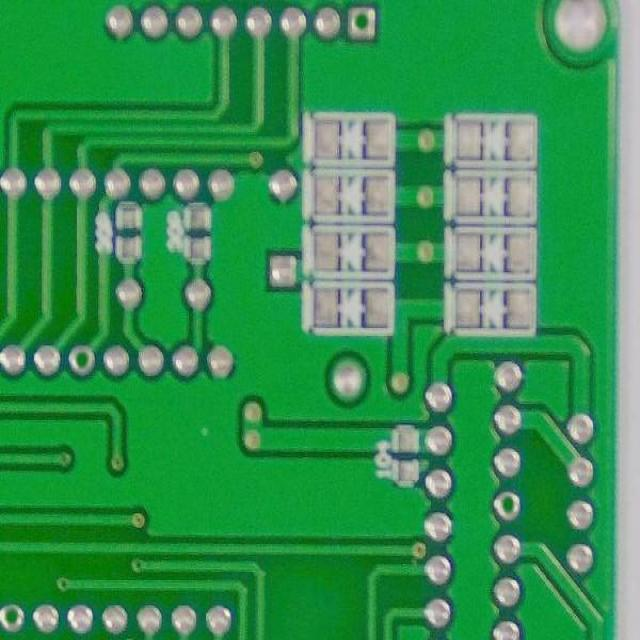missing hole: (343, 3, 383, 44), (66, 339, 97, 384), (491, 487, 524, 524), (1, 598, 26, 634)
